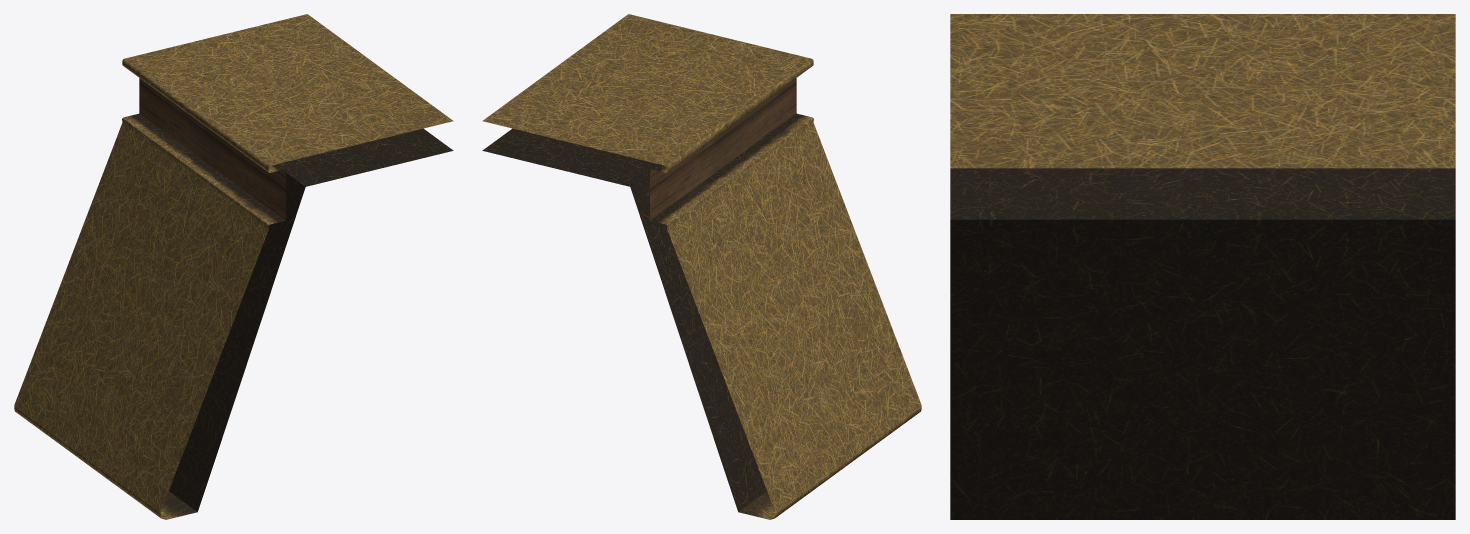
The model's file is Roof_Hay_End_Middle.fbx.
3 views of the same model, side by side, from view 1: azimuth 30°, elevation 25°; view 2: azimuth 150°, elevation 25°; view 3: azimuth 270°, elevation 25° (orthographic). The views are drawn at different scales.
Parts seen in each view (by area): view 1: Roof_Hay_End_Middle; view 2: Roof_Hay_End_Middle; view 3: Roof_Hay_End_Middle.
Boxes of the visible parts, x1=… form: Roof_Hay_End_Middle: x1=14, y1=14, x2=453, y2=519; Roof_Hay_End_Middle: x1=482, y1=14, x2=921, y2=519; Roof_Hay_End_Middle: x1=950, y1=14, x2=1455, y2=519.
Bounding box in the file's own units: 231 × 248 × 200.
